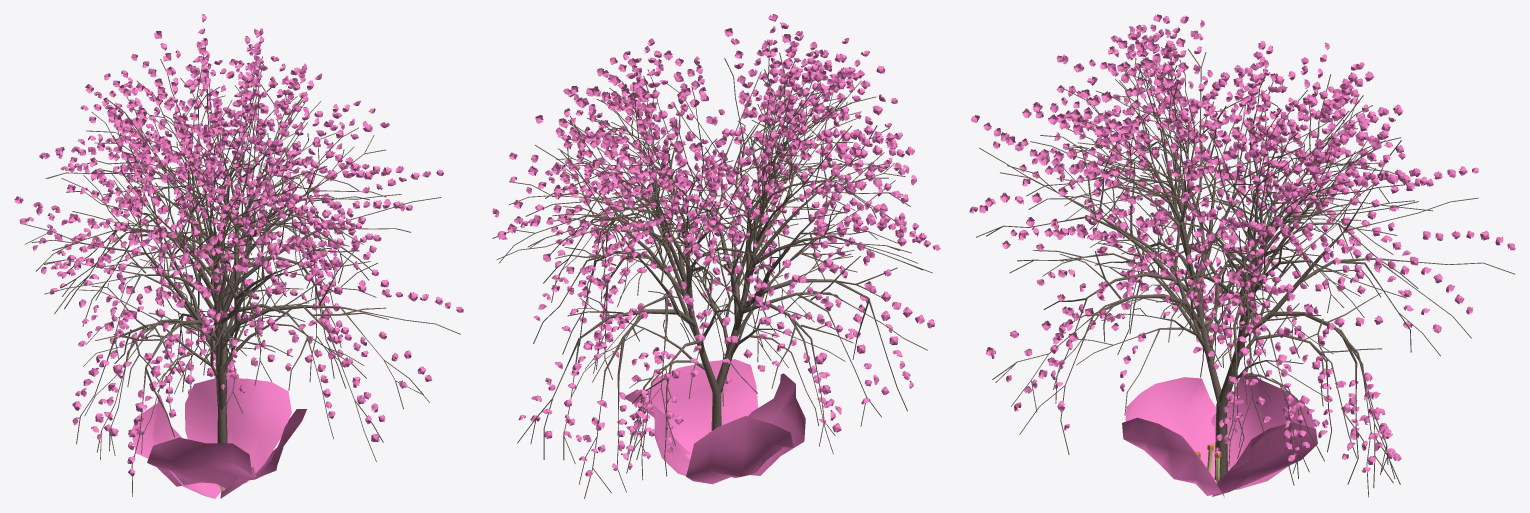
The model's file is sakura+tree.fbx.
3 views of the same model, side by side, from view 1: azimuth 30°, elevation 25°; view 2: azimuth 150°, elevation 25°; view 3: azimuth 270°, elevation 25° (orthographic). The views are drawn at different scales.
Parts seen in each view (by area): view 1: tree, flower main; view 2: tree, flower main; view 3: tree, flower main.
Part boxes in pixels (x1,y1,x2,y2): tree: (20, 45, 460, 496); flower main: (132, 378, 306, 498); tree: (492, 45, 932, 498); flower main: (625, 359, 805, 484); tree: (976, 47, 1514, 497); flower main: (1122, 372, 1317, 497).
Bounding box in the file's own units: 724 × 776 × 848.
